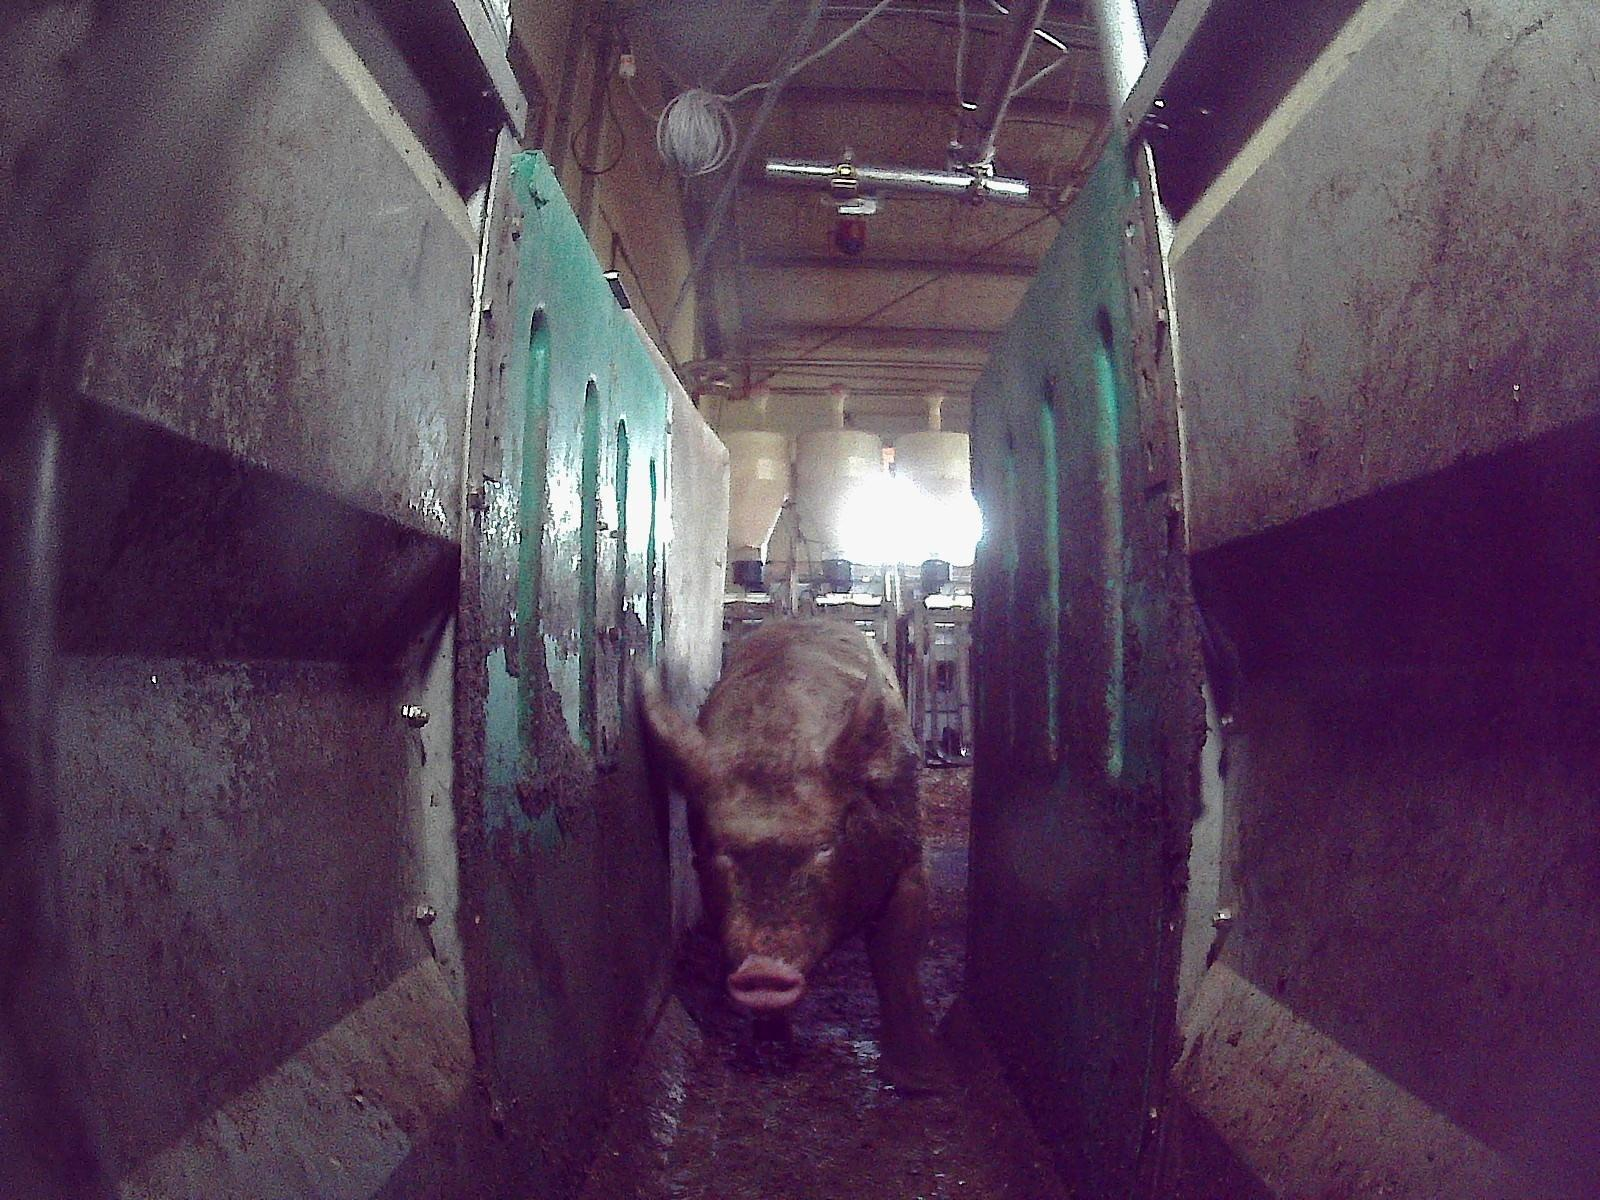Face: (685, 743, 862, 1007)
